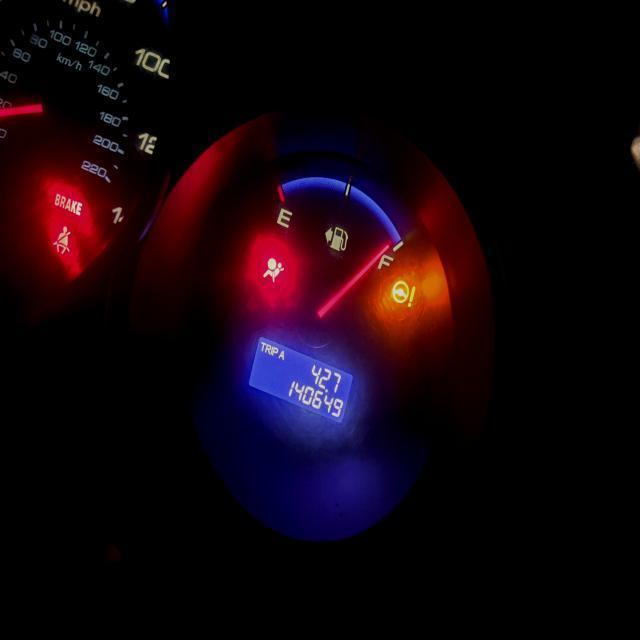Electronic Power Steering: (387, 280, 418, 308)
Seat Belt: (48, 224, 74, 255)
